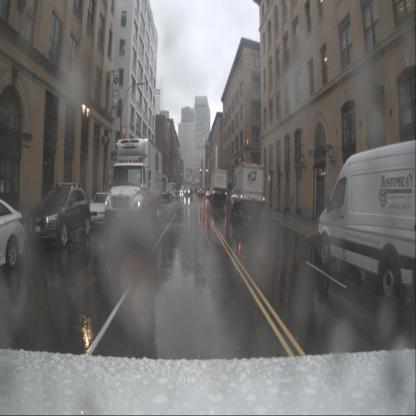vehicle-car: (317, 139, 416, 303), (29, 181, 91, 248), (0, 192, 27, 274), (86, 190, 114, 227), (184, 186, 193, 197), (198, 188, 204, 197), (206, 190, 210, 198)
vehicle-truck: (105, 138, 162, 230), (230, 162, 266, 219), (141, 175, 176, 200), (210, 169, 227, 205)
